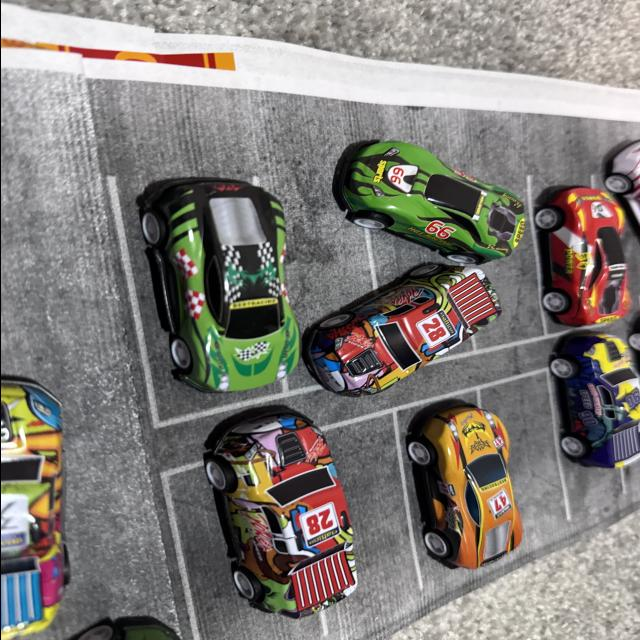Car: (200, 410, 358, 626), (136, 180, 294, 390), (310, 269, 500, 392), (334, 137, 524, 257), (400, 410, 524, 572), (534, 186, 632, 324), (548, 343, 640, 443), (604, 144, 640, 256)
